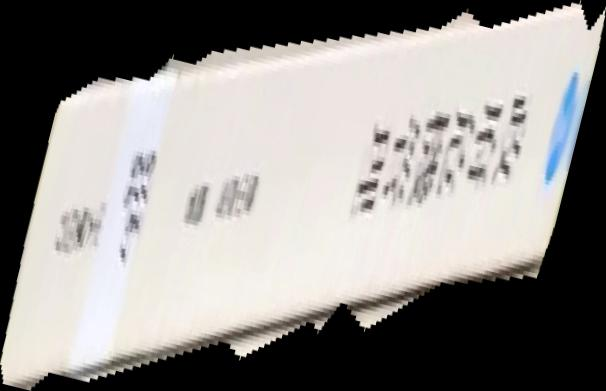flat: (1, 1, 606, 391)
